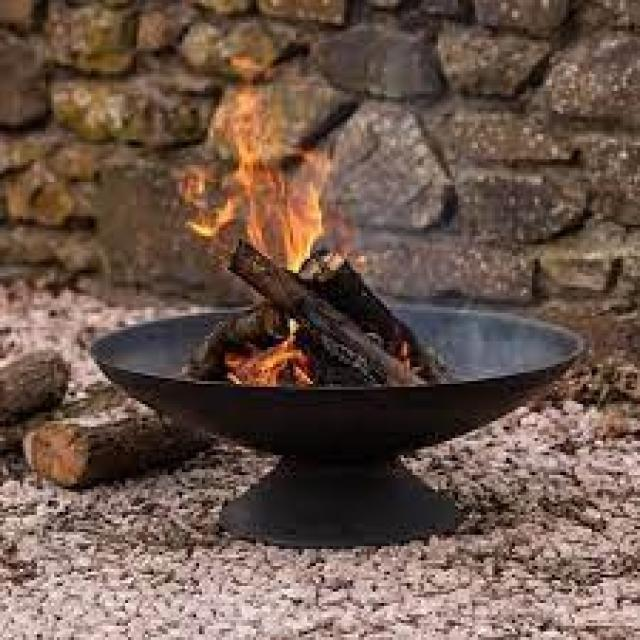fire: (177, 55, 335, 276), (228, 339, 312, 389)
